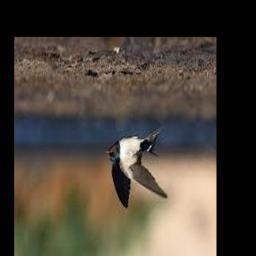Swallow: (106, 128, 168, 209)
